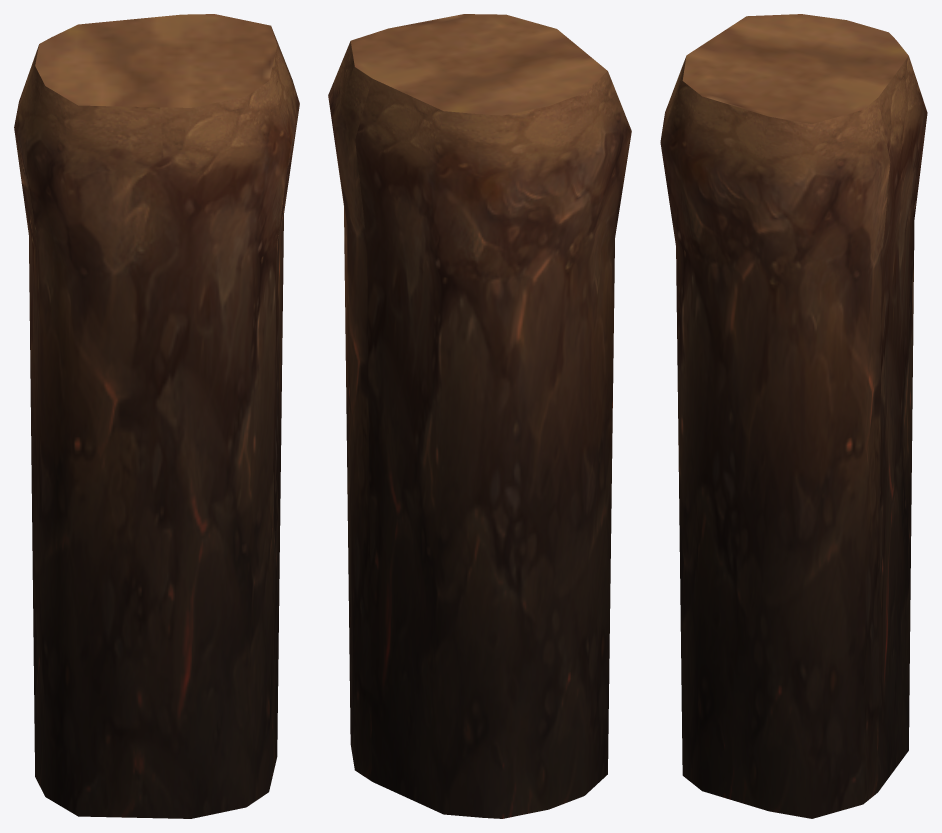
File: DiZuo06.FBX
3 views of the same model, side by side, from view 1: azimuth 30°, elevation 25°; view 2: azimuth 150°, elevation 25°; view 3: azimuth 270°, elevation 25° (orthographic). The views are drawn at different scales.
Parts seen in each view (by area): view 1: DiZuo06, DiZuo06b; view 2: DiZuo06, DiZuo06b; view 3: DiZuo06, DiZuo06b.
Boxes of the visible parts, <box> form: DiZuo06: <box>14,27,299,818</box>; DiZuo06b: <box>35,14,277,107</box>; DiZuo06: <box>328,41,631,818</box>; DiZuo06b: <box>350,14,607,115</box>; DiZuo06: <box>660,56,927,818</box>; DiZuo06b: <box>682,14,908,123</box>.
Size of the model in its own units: 474 by 1180 by 411.
